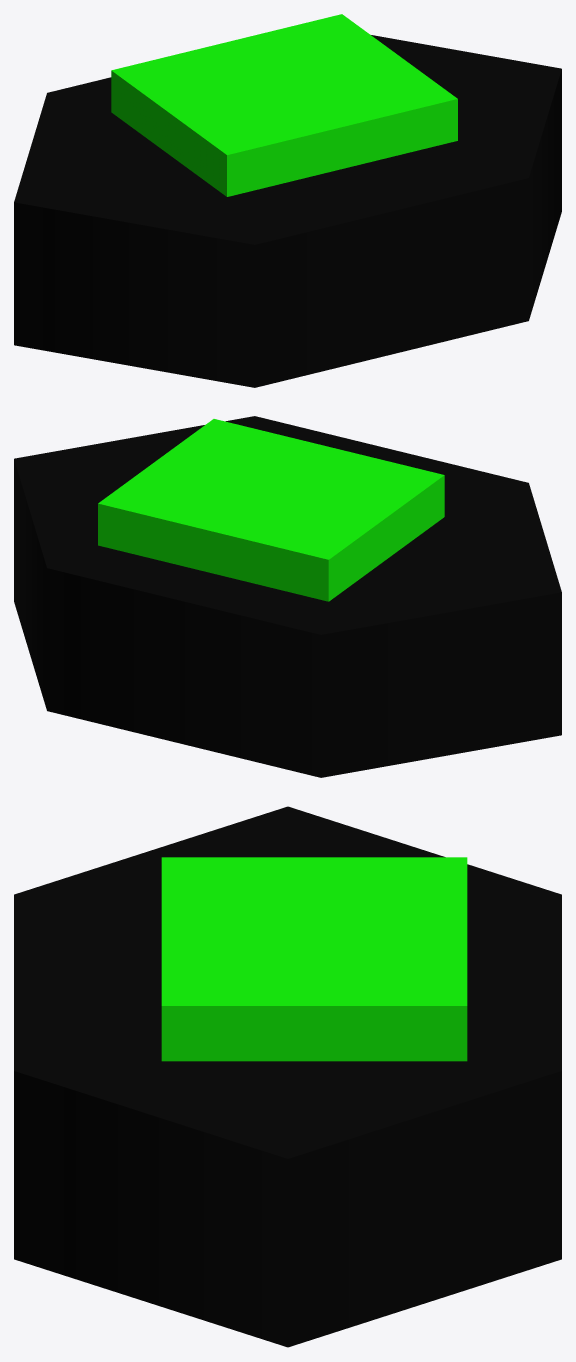
Rendered from Switch.fbx.
The picture shows the model from 3 angles, top to bottom: view 1: azimuth 30°, elevation 25°; view 2: azimuth 150°, elevation 25°; view 3: azimuth 270°, elevation 25°; orthographic projection. The views are drawn at different scales.
Parts seen in each view (by area): view 1: Switch, Cube__12_; view 2: Switch, Cube__12_; view 3: Switch, Cube__12_.
Boxes of the visible parts, left/top/right/bottom form: Switch: left=14, top=35, right=561, bottom=387; Cube__12_: left=111, top=14, right=457, bottom=196; Switch: left=14, top=416, right=561, bottom=777; Cube__12_: left=98, top=419, right=444, bottom=601; Switch: left=14, top=806, right=561, bottom=1347; Cube__12_: left=161, top=857, right=467, bottom=1061.
Size of the model in its own units: 294 by 94.76 by 193.
